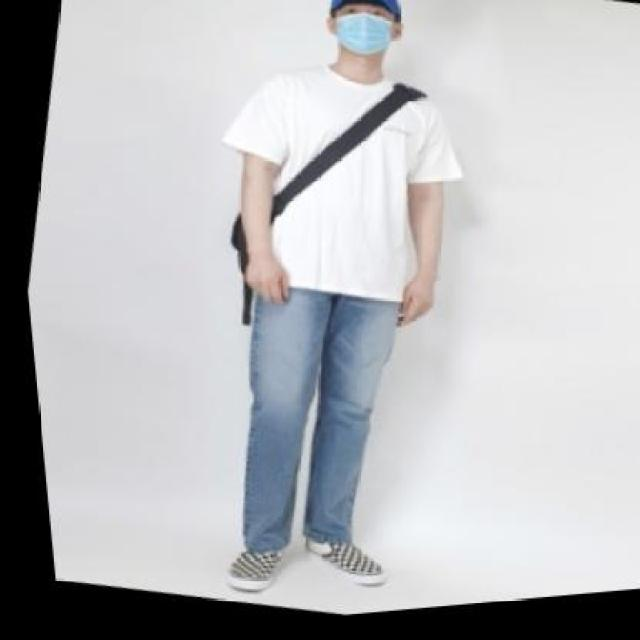hat: (320, 0, 409, 40)
